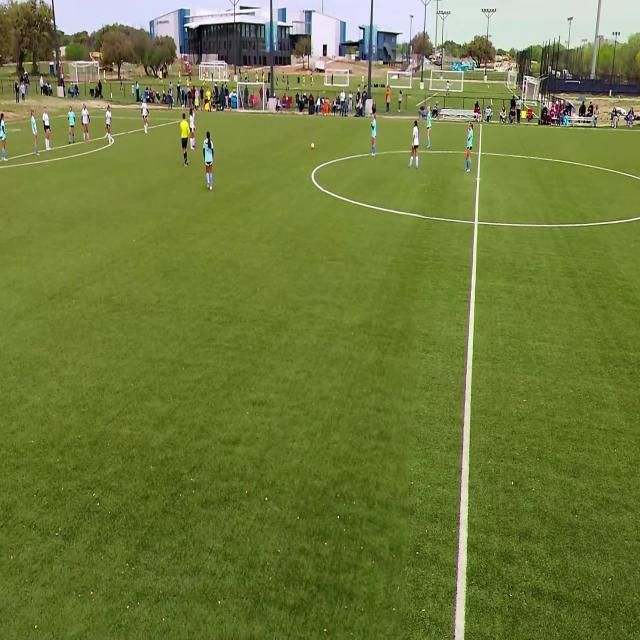ball: (310, 141, 314, 150)
team1: (203, 132, 217, 194), (184, 110, 198, 164), (190, 107, 201, 158), (467, 120, 477, 168), (30, 111, 40, 156), (423, 104, 433, 149), (0, 113, 8, 164), (68, 106, 76, 146), (372, 114, 379, 157)
team2: (409, 122, 422, 172), (43, 107, 53, 152), (104, 105, 113, 149), (83, 104, 91, 146), (141, 98, 149, 136)
